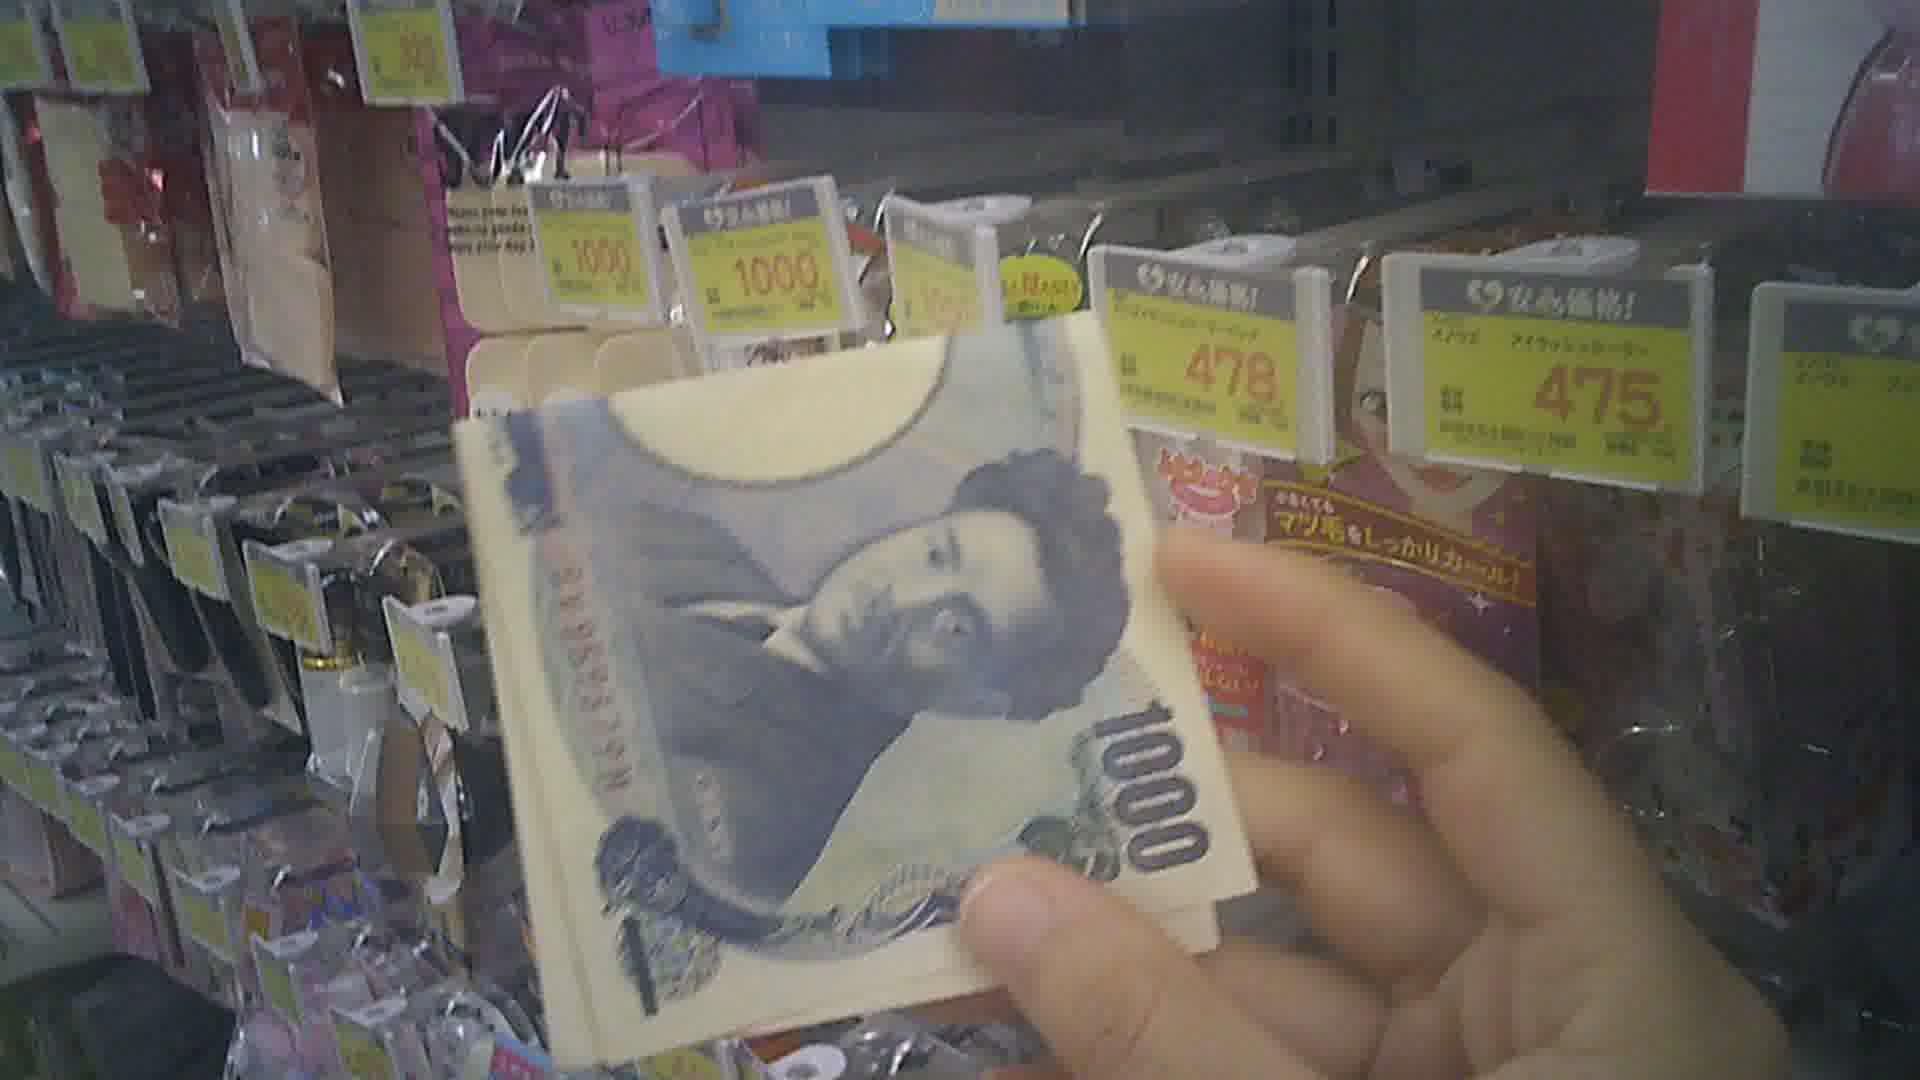1,000 Yen: (446, 319, 1254, 1073)
